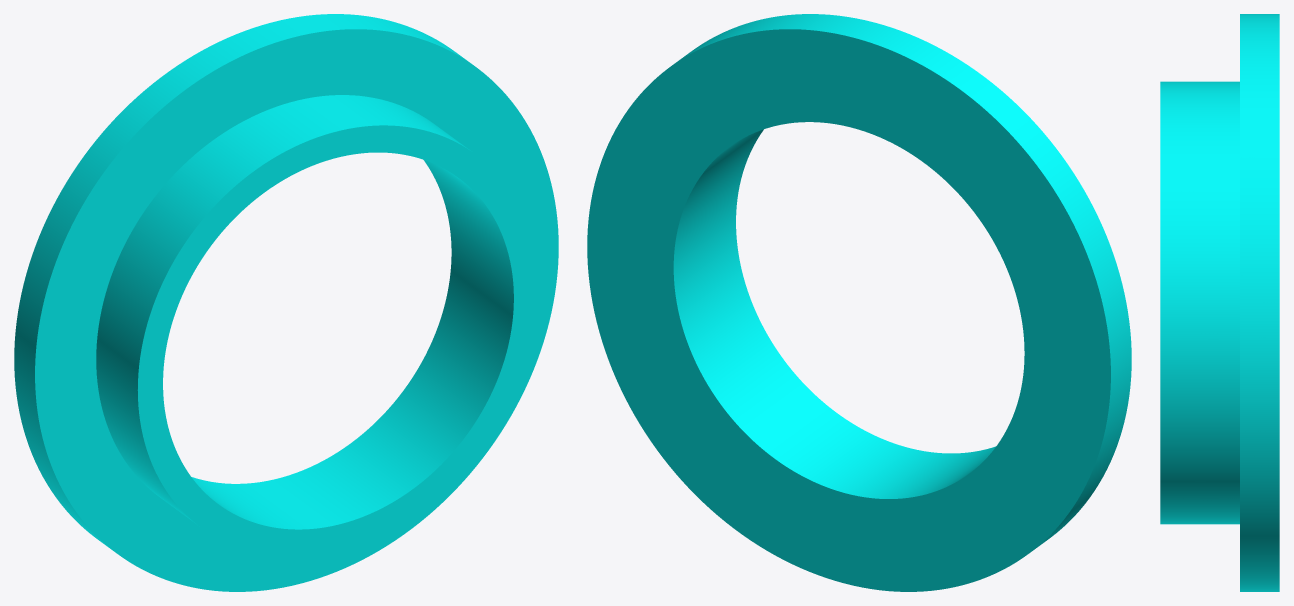
File: V5_Half Inch Lens Mount Cover (V5).obj
3 views of the same model, side by side, from view 1: azimuth 30°, elevation 25°; view 2: azimuth 150°, elevation 25°; view 3: azimuth 270°, elevation 25° (orthographic). The views are drawn at different scales.
Visible parts, largest first — view 1: Solid1:17; view 2: Solid1:17; view 3: Solid1:17.
Part boxes in pixels (box(x1,y1,x2,y2)): Solid1:17: box(14, 14, 558, 591); Solid1:17: box(587, 14, 1131, 591); Solid1:17: box(1160, 14, 1279, 591).
Size of the model in its own units: 18.18 by 18.18 by 3.75.
